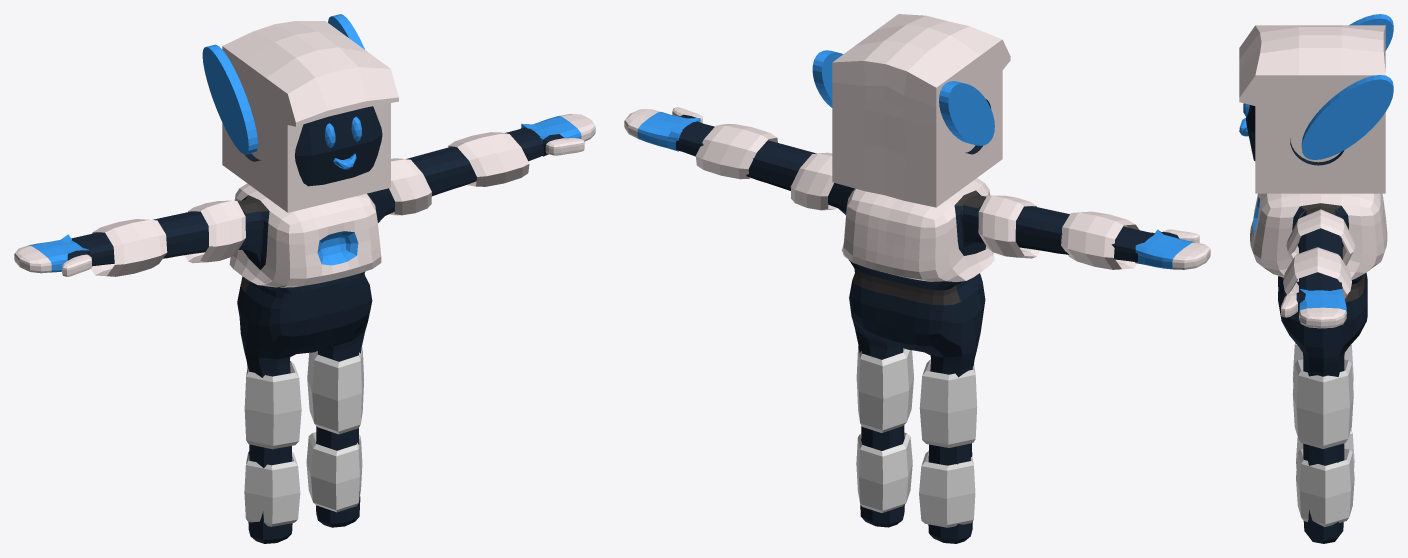
Rendered from S4M_T-pose.fbx.
3 views of the same model, side by side, from view 1: azimuth 30°, elevation 25°; view 2: azimuth 150°, elevation 25°; view 3: azimuth 270°, elevation 25° (orthographic).
Parts seen in each view (by area): view 1: personaje, casco.001, amraduraPiernas, pecho, armaduraBrazos, cabeza, orejas1; view 2: casco.001, personaje, amraduraPiernas, pecho, armaduraBrazos, orejas1, manos; view 3: casco.001, personaje, amraduraPiernas, pecho, orejas1, armaduraBrazos, cabeza, manos.
Boxes of the visible parts, x1=… form: personaje: x1=14, y1=114, x2=595, y2=543; casco.001: x1=222, y1=21, x2=398, y2=212; amraduraPiernas: x1=244, y1=347, x2=364, y2=526; pecho: x1=229, y1=183, x2=381, y2=287; armaduraBrazos: x1=91, y1=132, x2=529, y2=276; cabeza: x1=294, y1=106, x2=382, y2=186; orejas1: x1=202, y1=14, x2=364, y2=154; casco.001: x1=832, y1=14, x2=1010, y2=207; personaje: x1=624, y1=107, x2=1210, y2=543; amraduraPiernas: x1=856, y1=345, x2=977, y2=527; pecho: x1=841, y1=178, x2=994, y2=282; armaduraBrazos: x1=695, y1=124, x2=1139, y2=269; orejas1: x1=812, y1=50, x2=994, y2=145; manos: x1=658, y1=116, x2=1173, y2=266; casco.001: x1=1239, y1=25, x2=1385, y2=193; personaje: x1=1278, y1=207, x2=1367, y2=543; amraduraPiernas: x1=1292, y1=343, x2=1354, y2=526; pecho: x1=1250, y1=193, x2=1387, y2=281; orejas1: x1=1301, y1=14, x2=1393, y2=159; armaduraBrazos: x1=1283, y1=209, x2=1354, y2=299; cabeza: x1=1246, y1=105, x2=1255, y2=160; manos: x1=1296, y1=288, x2=1345, y2=301.
Bounding box in the file's own units: 1007 × 825 × 237.
Materials: 7 (7 with a texture image).
